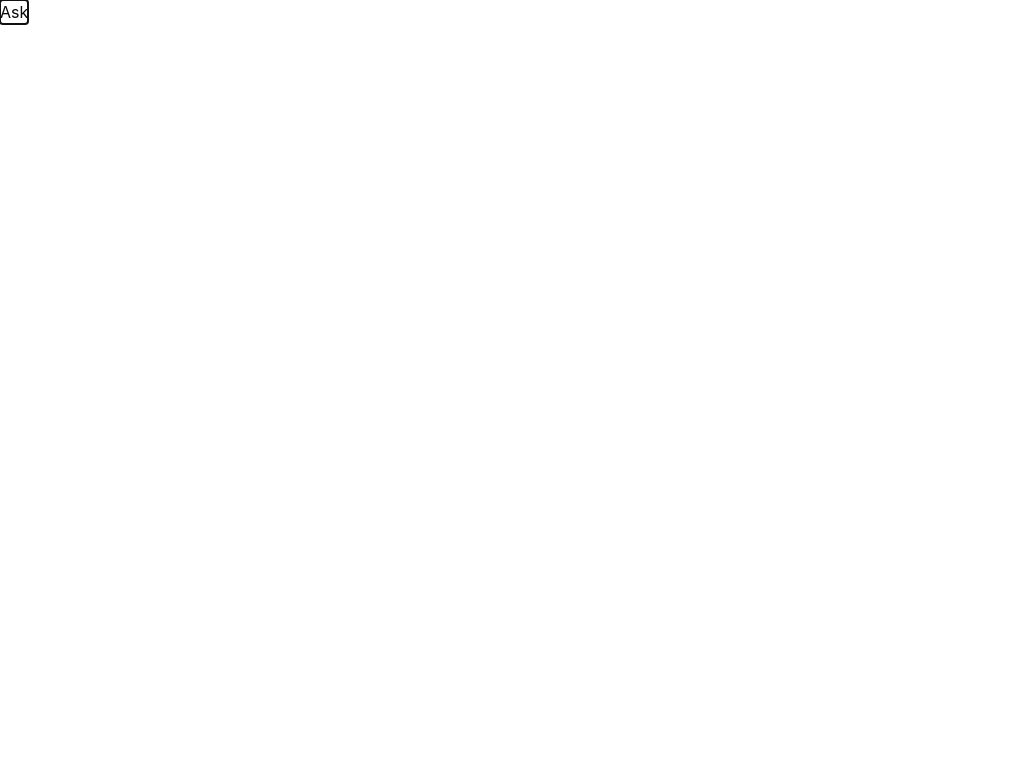
it: useConfirm / ConfirmDialog › returns focus to the element that was focused when the question was asked
Press Enter
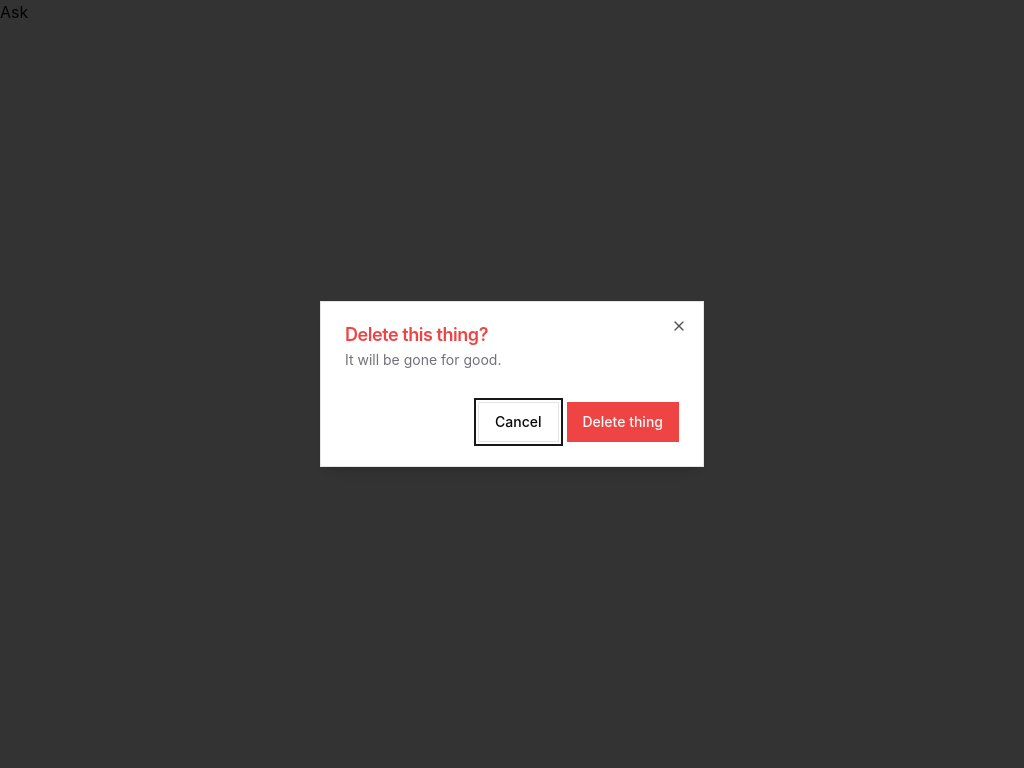
Click the button "Cancel" at point(518, 422), box [478, 402, 558, 442]
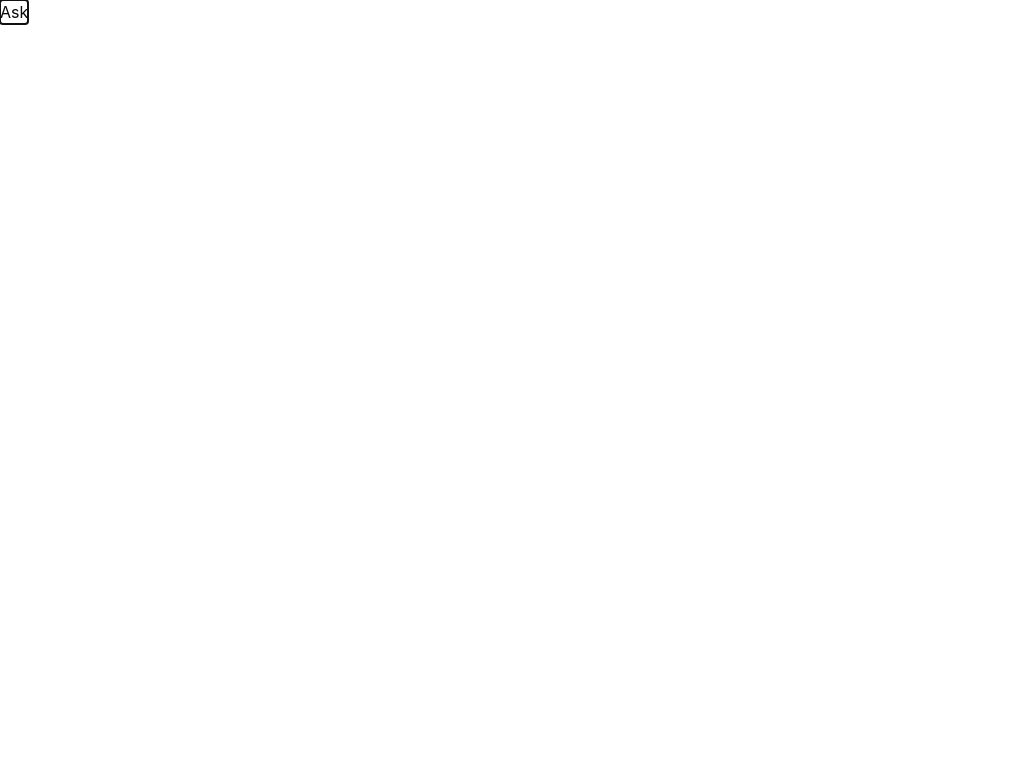
Expected: the dialog is gone
